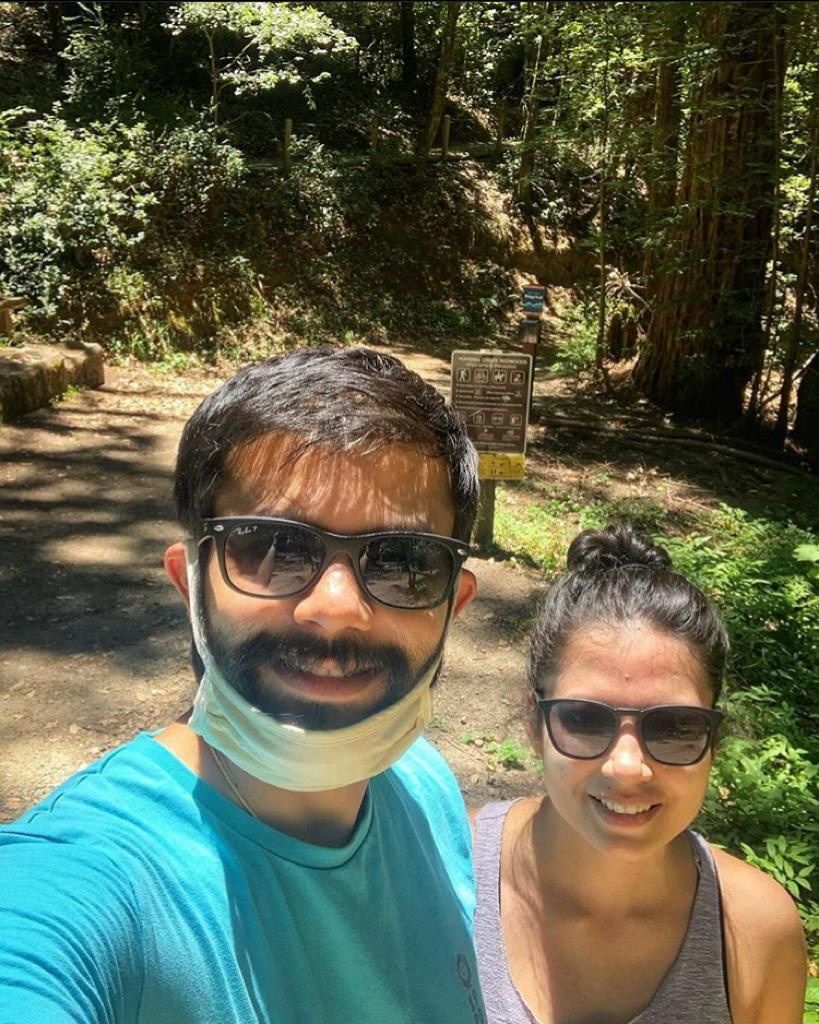mouth: (266, 652, 380, 697), (579, 790, 663, 829)
nose: (292, 602, 373, 634), (599, 757, 654, 787)
